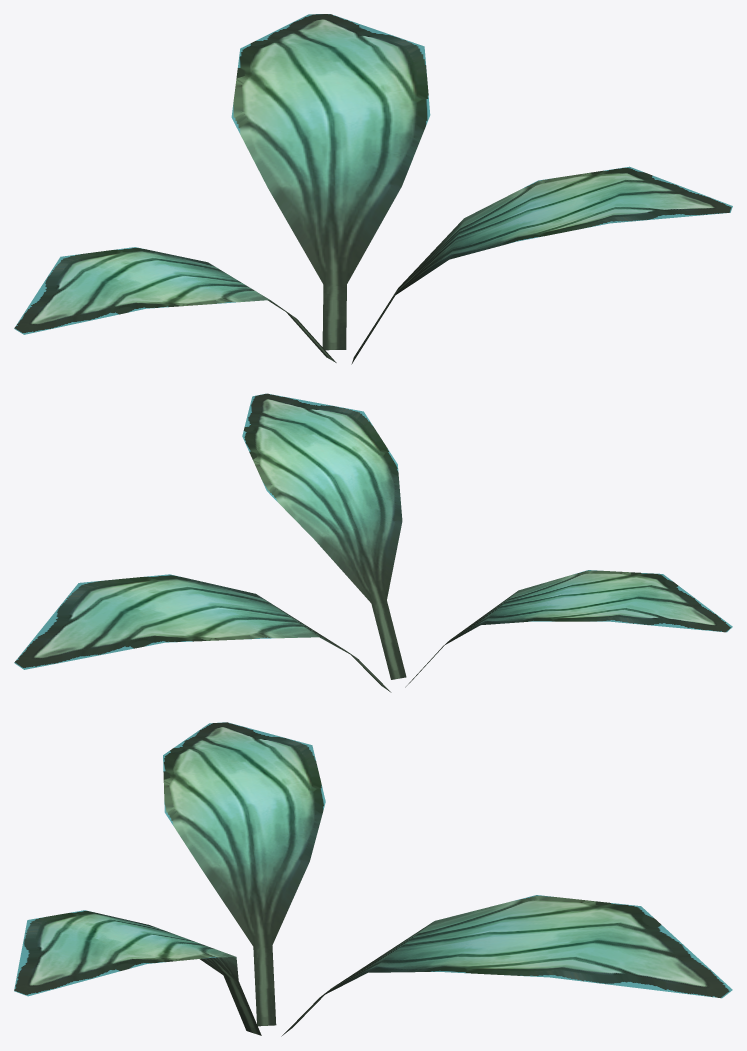
Rendered from bush_02.fbx.
The picture shows the model from 3 angles, top to bottom: view 1: azimuth 30°, elevation 25°; view 2: azimuth 150°, elevation 25°; view 3: azimuth 270°, elevation 25°; orthographic projection. The views are drawn at different scales.
Visible parts, largest first — view 1: bush_02; view 2: bush_02; view 3: bush_02.
Boxes of the visible parts, left/top/right/bottom form: bush_02: left=14, top=14, right=732, bottom=364; bush_02: left=14, top=393, right=732, bottom=692; bush_02: left=14, top=722, right=732, bottom=1036.
Bounding box in the file's own units: 126 × 35.1 × 121.
